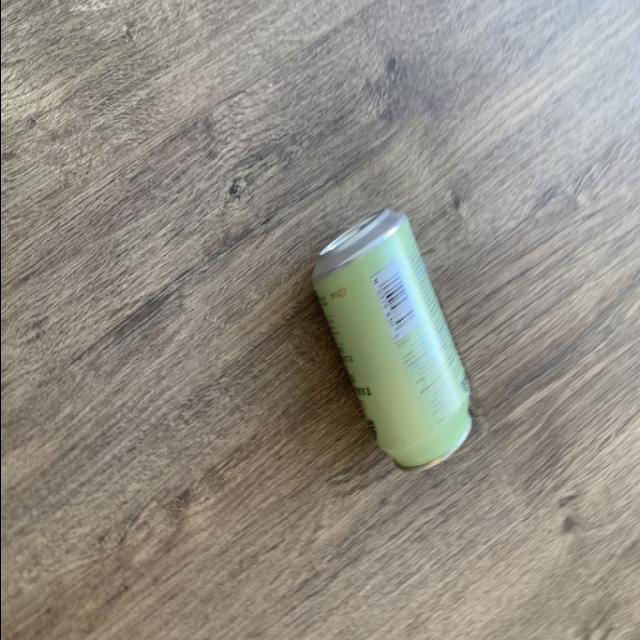litter: (301, 190, 478, 489)
